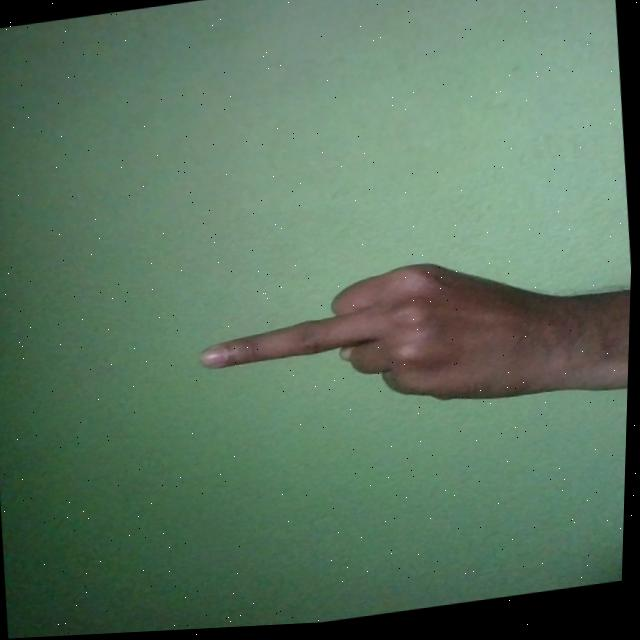Middle Finger: (193, 241, 631, 440)
